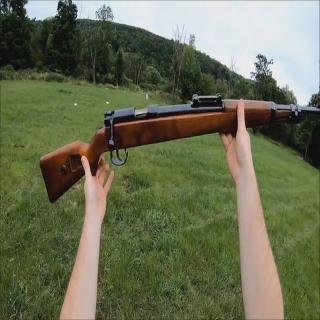gun: (32, 86, 318, 220)
